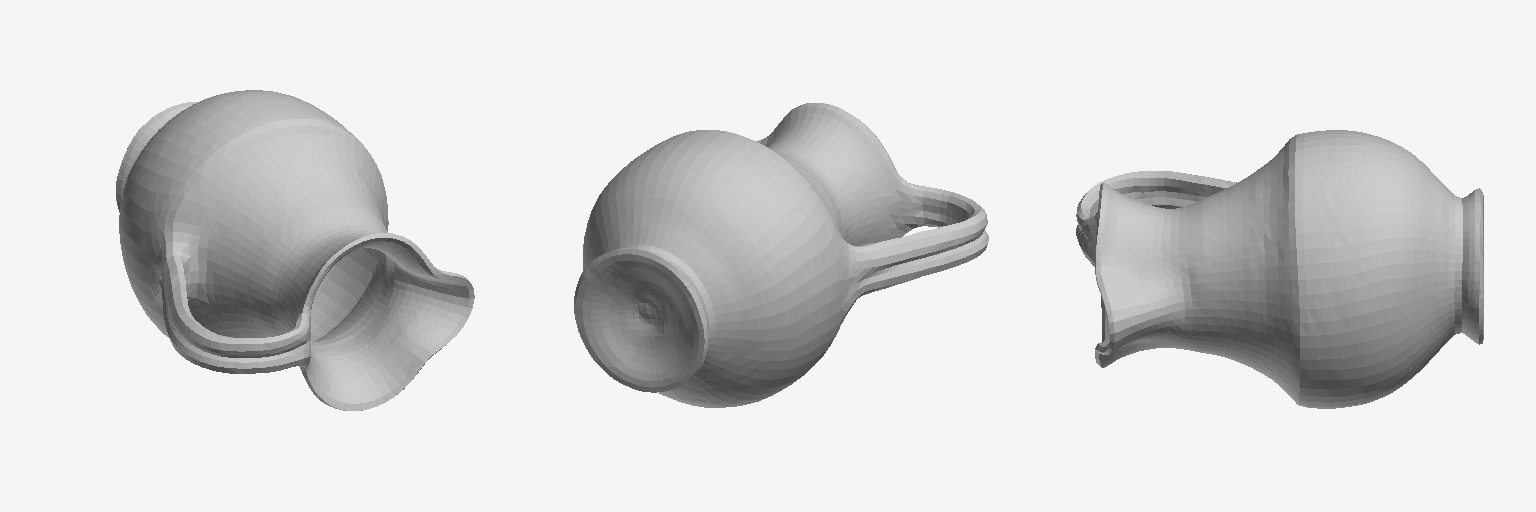
File: jar.obj
The picture shows the model from 3 angles: view 1: azimuth 30°, elevation 25°; view 2: azimuth 150°, elevation 25°; view 3: azimuth 270°, elevation 25°; orthographic projection.
Visible parts, largest first — view 1: JARRA_LOW; view 2: JARRA_LOW; view 3: JARRA_LOW.
Boxes of the visible parts, box(x1,y1,x2,y2) form: JARRA_LOW: box(116, 90, 474, 410); JARRA_LOW: box(574, 103, 988, 407); JARRA_LOW: box(1076, 130, 1483, 408).
Size of the model in its own units: 4.51 by 3.77 by 5.54.